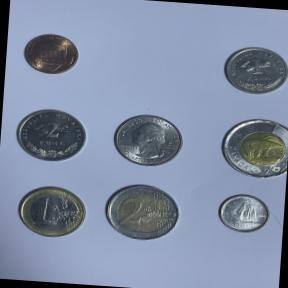coin: (100, 178, 184, 244), (215, 113, 288, 181), (12, 104, 92, 166), (12, 180, 92, 242), (107, 110, 188, 171), (18, 30, 82, 78), (213, 190, 274, 236)
